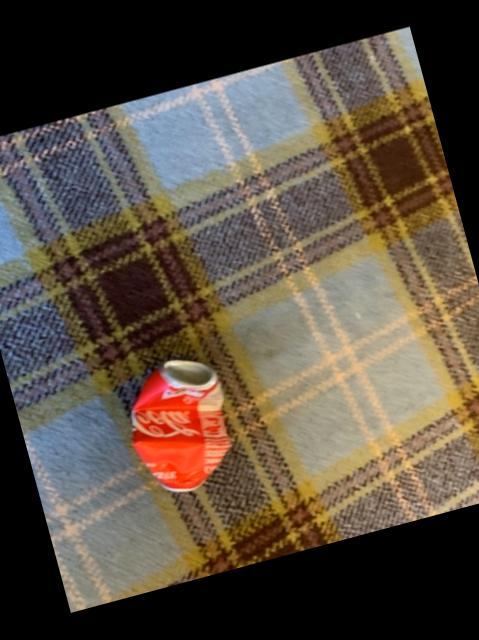metal: (128, 360, 227, 491)
